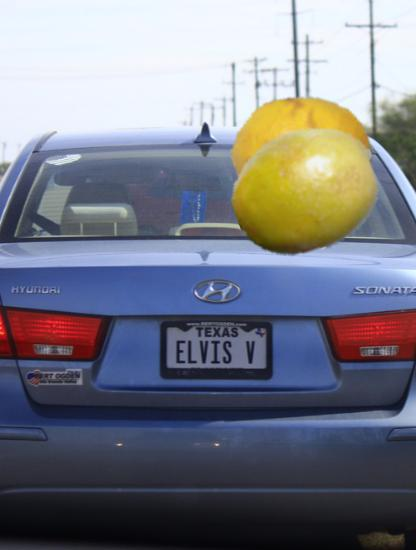Lemon: (231, 84, 380, 233)
Maracuja: (232, 118, 381, 267)
